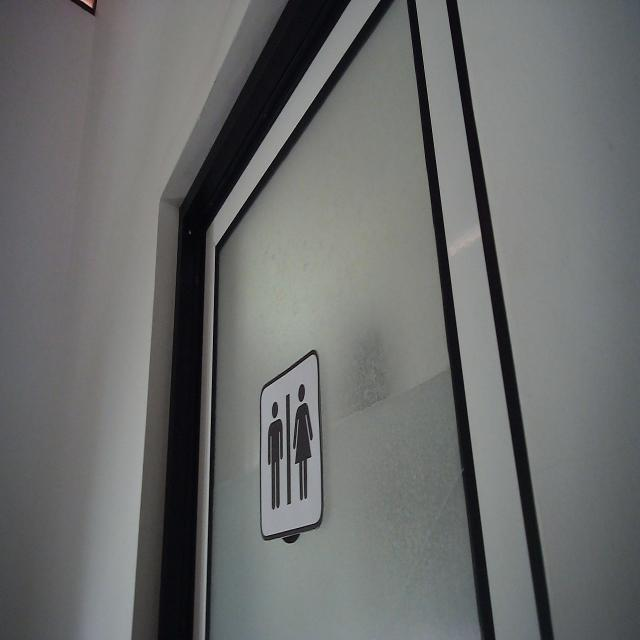restroom: (258, 348, 324, 546)
